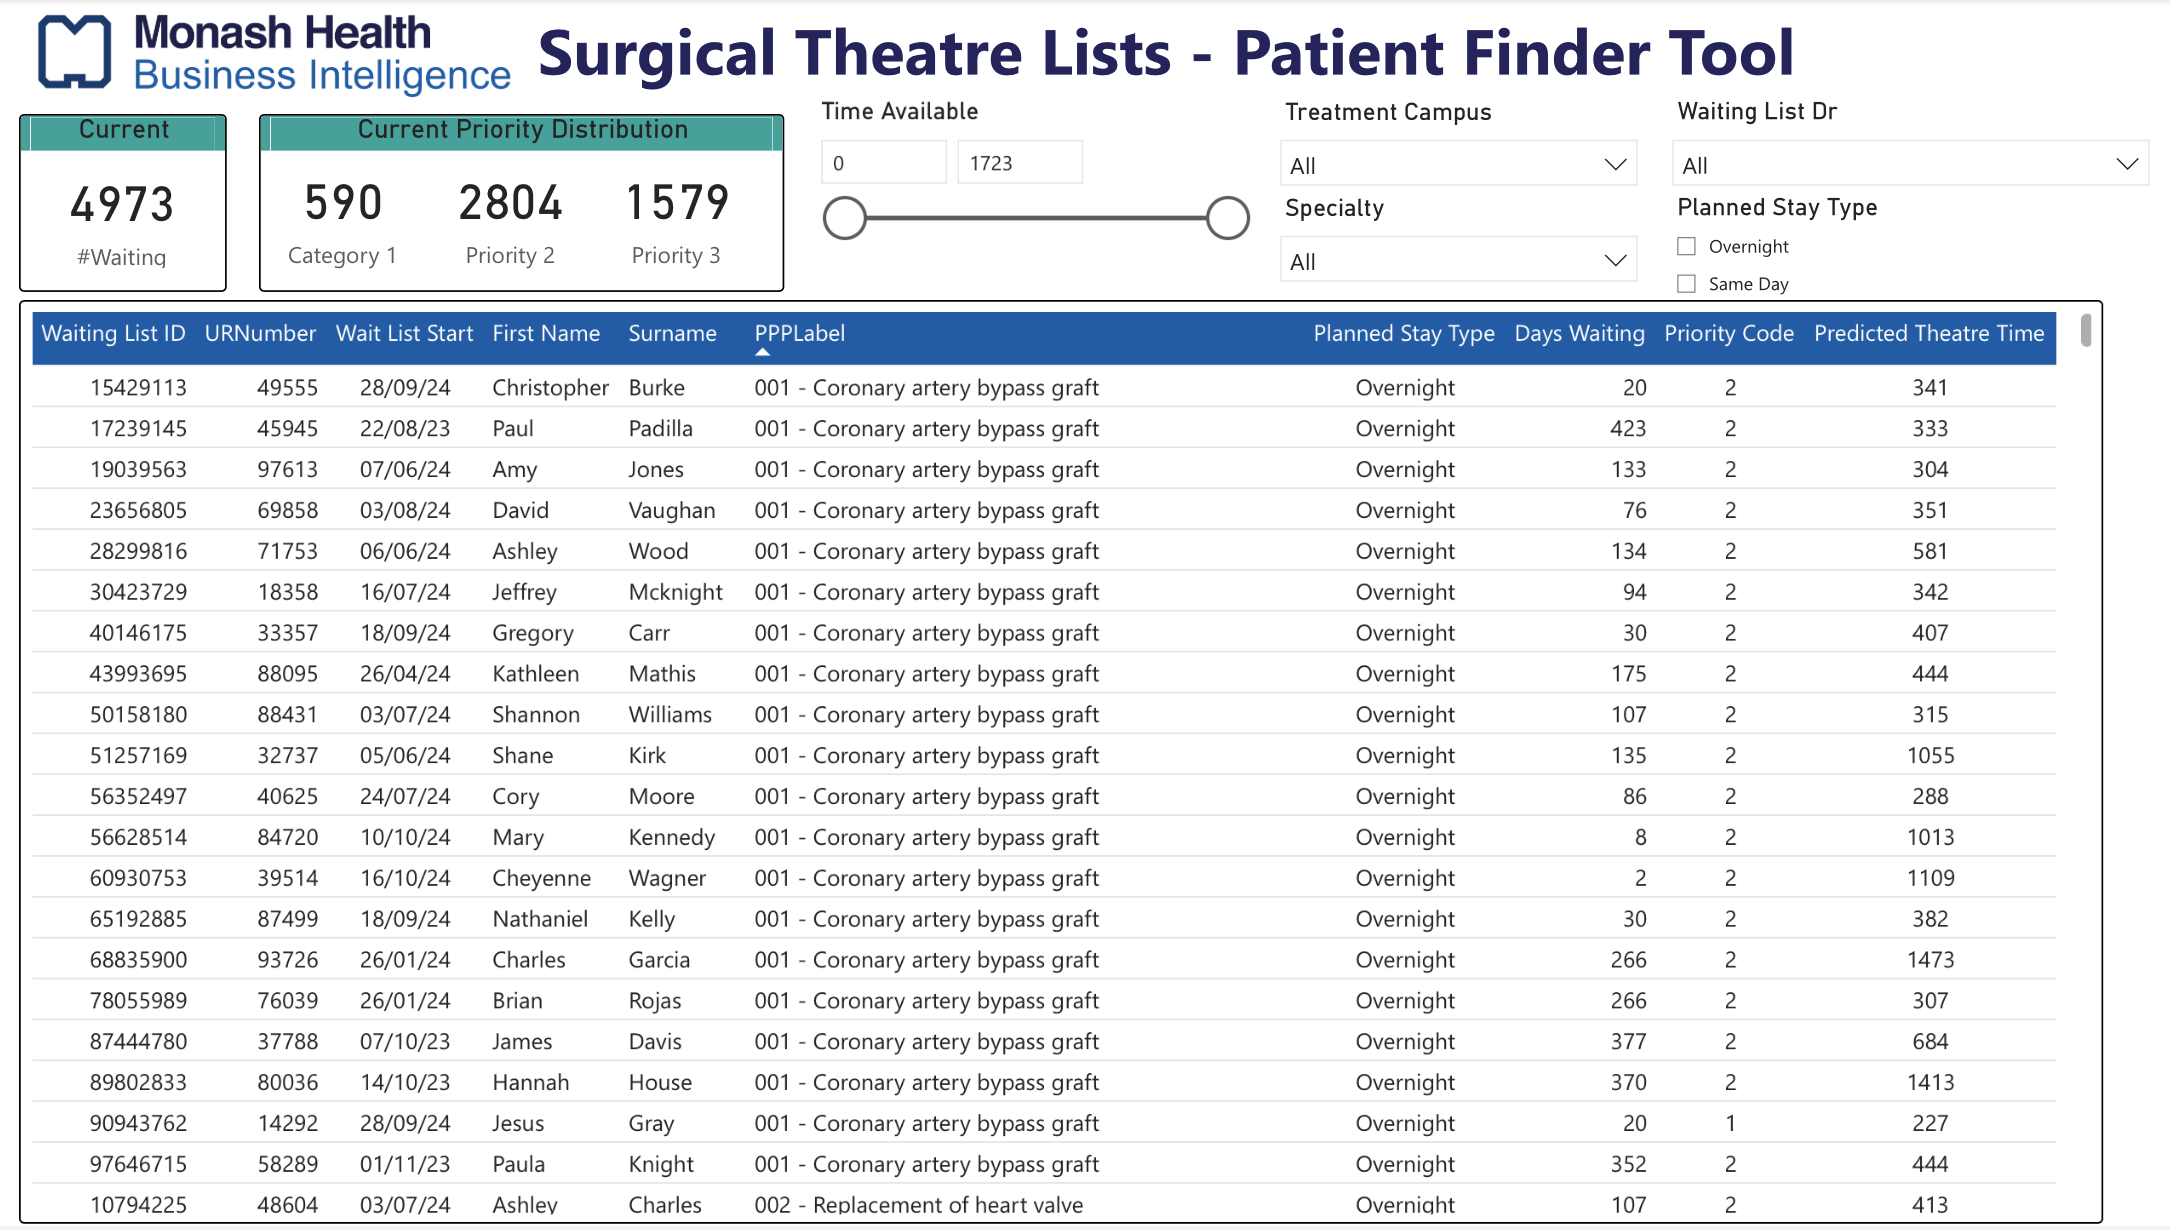

Layout of this report page (visuals, bound fields, positions):
{"tool":"powerbi","page":{"name":"Dashboard","canvas":[1280,720],"ordinal":0},"visuals":[{"type":"textbox","box":[309.2,0,779.7,67.6],"z":0},{"type":"slicer","fields":{"Values":["Model_Output_Example.WaitingListDrCarerName"]},"box":[969.9,55,300.2,71.2],"z":1000},{"type":"slicer","fields":{"Values":["Model_Output_Example.PlannedStayTypeDescription"]},"box":[969.8,111.4,213,86],"z":2000},{"type":"slicer","fields":{"Values":["Model_Output_Example.PredictedTheatreTime"]},"box":[466.9,55,273.1,160.5],"z":3000},{"type":"card","title":"Current","fields":{"Values":["Min(Model_Output_Example.NULL Filler)"]},"box":[9,67.6,121.7,104.6],"z":4000},{"type":"card","fields":{"Values":["CountNonNull(Model_Output_Example.PatientId)"]},"box":[20.7,91,98.3,72.1],"z":5000},{"type":"card","fields":{"Values":["Model_Output_Example.Priority 1"]},"box":[150.5,87.4,98.3,79.3],"z":6000},{"type":"card","fields":{"Values":["Model_Output_Example.Priority 2"]},"box":[248.8,87.4,98.3,79.3],"z":7000},{"type":"card","fields":{"Values":["Model_Output_Example.Priority 3"]},"box":[347,87.4,98.3,79.3],"z":8000},{"type":"card","title":"Current Priority Distribution","fields":{"Values":["Min(Model_Output_Example.NULL Filler)"]},"box":[150.5,67.6,308.3,104.6],"z":9000},{"type":"slicer","fields":{"Values":["Model_Output_Example.TreatmentCampusName"]},"box":[740.1,55,229.9,63.1],"z":10000},{"type":"slicer","fields":{"Values":["Model_Output_Example.WaitingListSpecialtyDesc"]},"box":[740.1,111.8,229.9,65.8],"z":11000},{"type":"tableEx","fields":{"Values":["Model_Output_Example.WaitingListSourceIdentifier","Model_Output_Example.PatientId","Model_Output_Example.WaitingStartDateTime","Model_Output_Example.PatientFirstName","Model_Output_Example.PatientSurname","Model_Output_Example.PPPLabel","Model_Output_Example.PlannedStayTypeDescription","Model_Output_Example.Days Waiting","Model_Output_Example.CurrentPriorityCode","Model_Output_Example.PredictedTheatreTime"]},"box":[9,177.7,1223.8,542.3],"z":12000},{"type":"image","box":[9,0,300.2,67.6],"z":13000}]}

Visuals, with their boxes in screenshot pixels (x1, y1, x2, y2), scaled from the page's 1280x720 canvas onto the 2170x1230 screenshot:
textbox: locate(524, 0, 1846, 115)
slicer - Model_Output_Example.WaitingListDrCarerName: locate(1644, 94, 2153, 216)
slicer - Model_Output_Example.PlannedStayTypeDescription: locate(1644, 190, 2005, 337)
slicer - Model_Output_Example.PredictedTheatreTime: locate(792, 94, 1255, 368)
"Current" card: locate(15, 115, 222, 294)
card - CountNonNull(Model_Output_Example.PatientId): locate(35, 155, 202, 279)
card - Model_Output_Example.Priority 1: locate(255, 149, 422, 285)
card - Model_Output_Example.Priority 2: locate(422, 149, 588, 285)
card - Model_Output_Example.Priority 3: locate(588, 149, 755, 285)
"Current Priority Distribution" card: locate(255, 115, 778, 294)
slicer - Model_Output_Example.TreatmentCampusName: locate(1255, 94, 1644, 202)
slicer - Model_Output_Example.WaitingListSpecialtyDesc: locate(1255, 191, 1644, 303)
tableEx - Model_Output_Example.WaitingListSourceIdentifier x Model_Output_Example.PatientId: locate(15, 304, 2090, 1229)
image: locate(15, 0, 524, 115)
